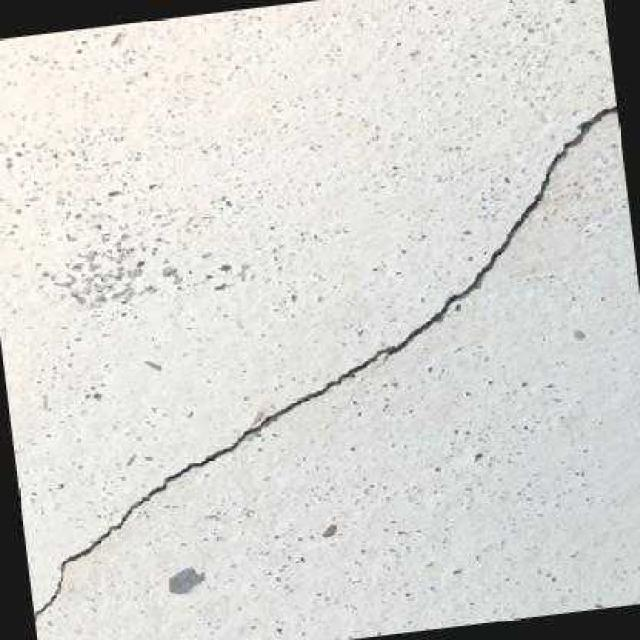D00: (33, 103, 617, 621)
